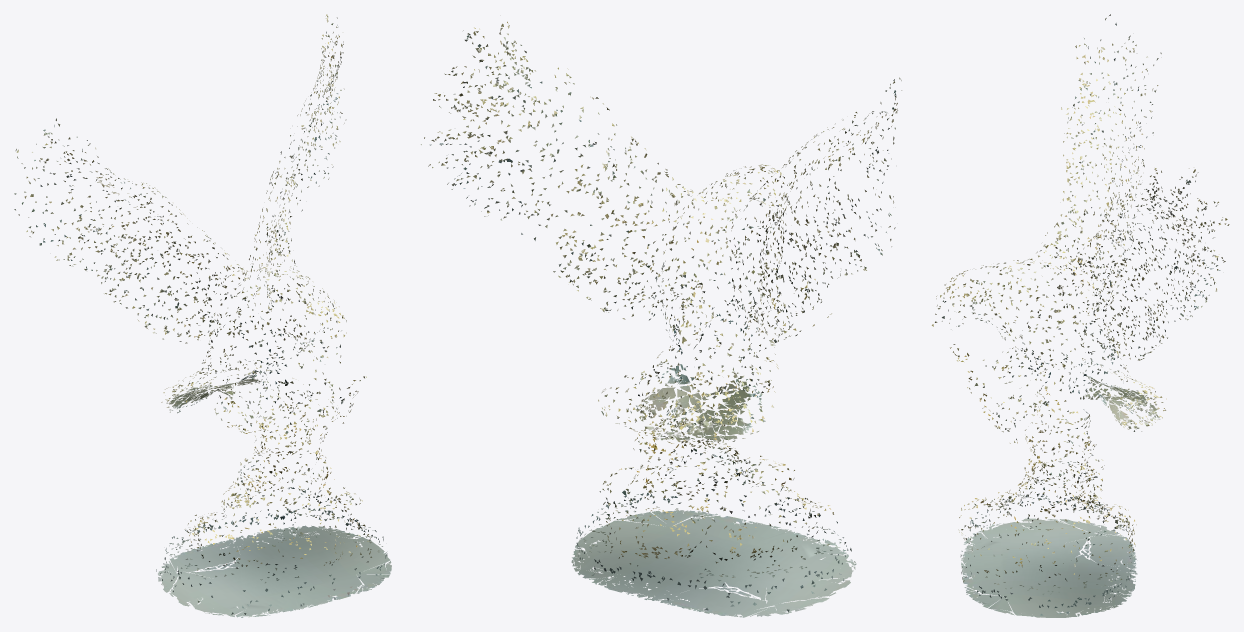
Rendered from eagle_statue.glb.
3 renders of one model, left to right at view 1: azimuth 30°, elevation 25°; view 2: azimuth 150°, elevation 25°; view 3: azimuth 270°, elevation 25°, orthographic. The views are drawn at different scales.
Visible parts, largest first — view 1: Object_2, Object_12, Object_5, Object_6, Object_7, Object_11, Object_10, Object_9, Object_4, Object_3, Object_8; view 2: Object_2, Object_3, Object_12, Object_8, Object_9, Object_7, Object_4, Object_10, Object_6, Object_11, Object_5; view 3: Object_2, Object_5, Object_6, Object_12, Object_7, Object_9, Object_8, Object_10, Object_11, Object_3, Object_4.
Boxes of the visible parts, x1,y1,x2,y2 form: Object_2: (44, 123, 391, 617); Object_12: (163, 507, 387, 616); Object_5: (123, 191, 314, 347); Object_6: (101, 183, 329, 364); Object_7: (39, 108, 339, 434); Object_11: (184, 478, 365, 575); Object_10: (225, 14, 346, 534); Object_9: (14, 51, 366, 477); Object_4: (67, 155, 346, 402); Object_3: (54, 125, 341, 416); Object_8: (18, 100, 355, 446); Object_2: (547, 92, 896, 617); Object_3: (553, 96, 882, 424); Object_12: (571, 466, 855, 614); Object_8: (503, 67, 901, 444); Object_9: (459, 33, 900, 460); Object_7: (530, 68, 897, 446); Object_4: (570, 112, 865, 399); Object_10: (421, 21, 779, 511); Object_6: (615, 127, 838, 349); Object_11: (589, 436, 833, 569); Object_5: (638, 139, 820, 328); Object_2: (961, 57, 1168, 617); Object_5: (970, 142, 1130, 346); Object_6: (955, 122, 1139, 355); Object_12: (958, 473, 1137, 616); Object_7: (940, 43, 1176, 428); Object_9: (979, 14, 1204, 487); Object_8: (950, 18, 1185, 446); Object_10: (1000, 168, 1229, 543); Object_11: (959, 461, 1136, 588); Object_3: (932, 73, 1167, 406); Object_4: (936, 93, 1160, 388).
Size of the model in its own units: 26.65 by 33.4 by 19.38.
Materials: 1 (1 with a texture image).
